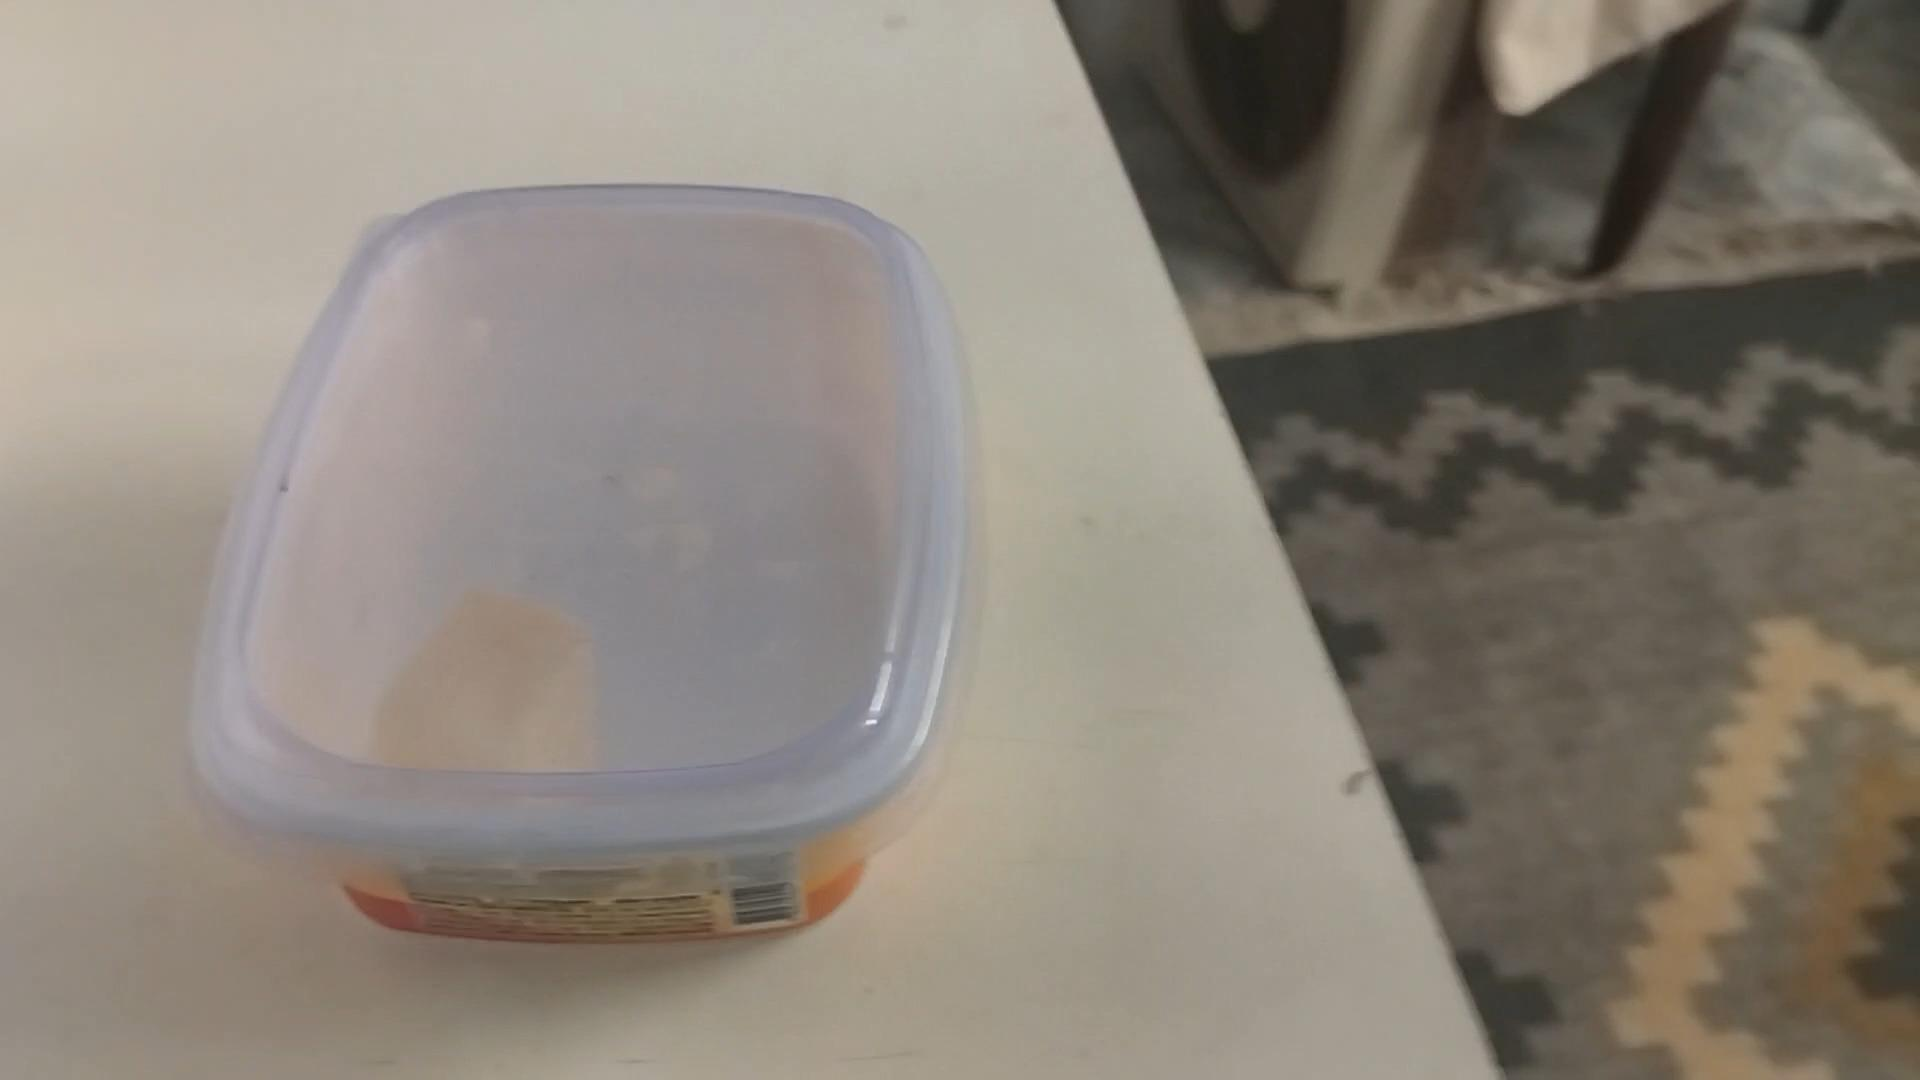butter: (191, 185, 963, 943)
